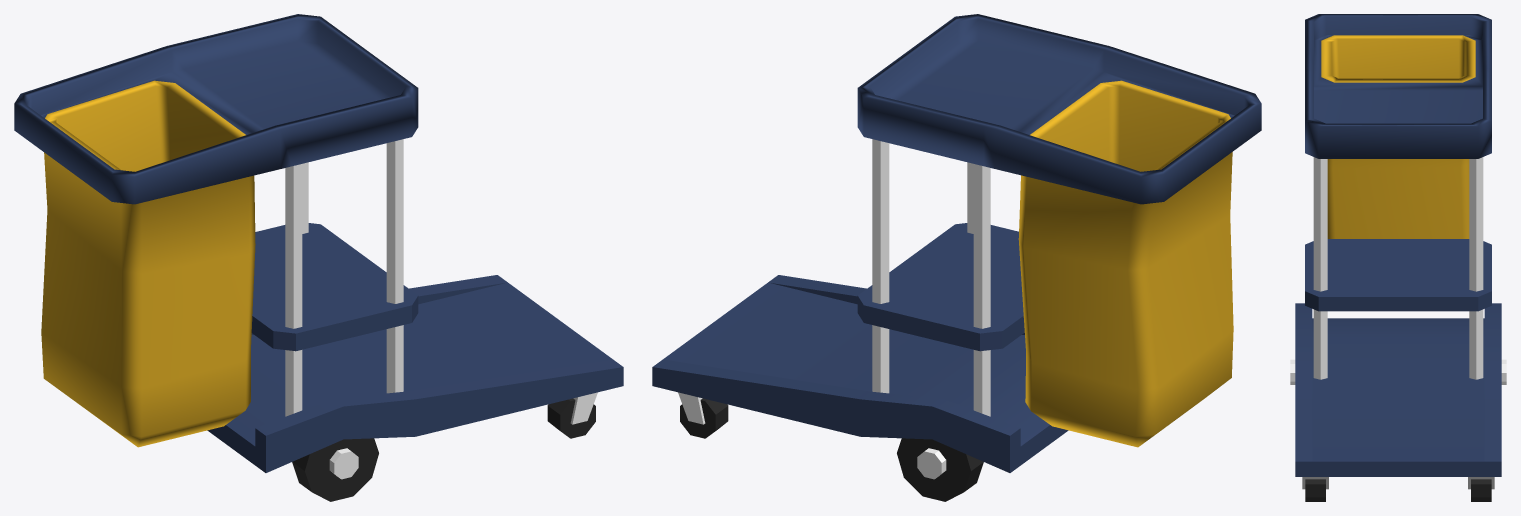
Rendered from mesh_cleaning_cart.fbx.
3 views of the same model, side by side, from view 1: azimuth 30°, elevation 25°; view 2: azimuth 150°, elevation 25°; view 3: azimuth 270°, elevation 25° (orthographic). The views are drawn at different scales.
Visible parts, largest first — view 1: mesh_cleaningcart_01; view 2: mesh_cleaningcart_01; view 3: mesh_cleaningcart_01.
Part boxes in pixels (x1,y1,x2,y2): mesh_cleaningcart_01: (14, 14, 623, 501); mesh_cleaningcart_01: (652, 14, 1261, 501); mesh_cleaningcart_01: (1290, 14, 1506, 501).
Bounding box in the file's own units: 45.47 × 33.21 × 20.89.
